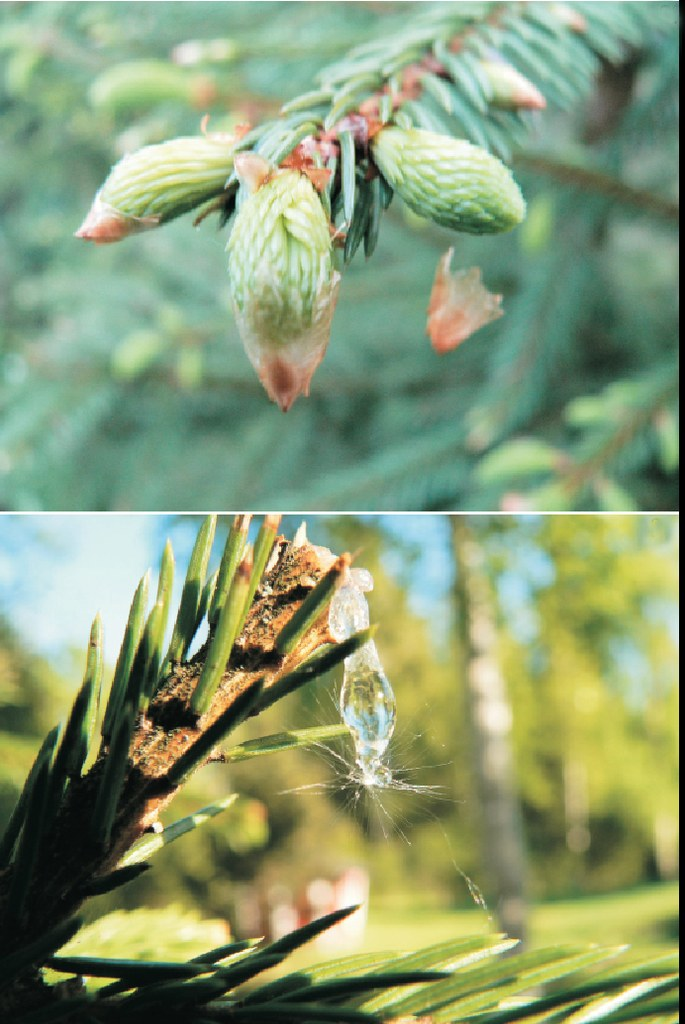insect: (277, 566, 454, 849), (233, 166, 339, 409)
